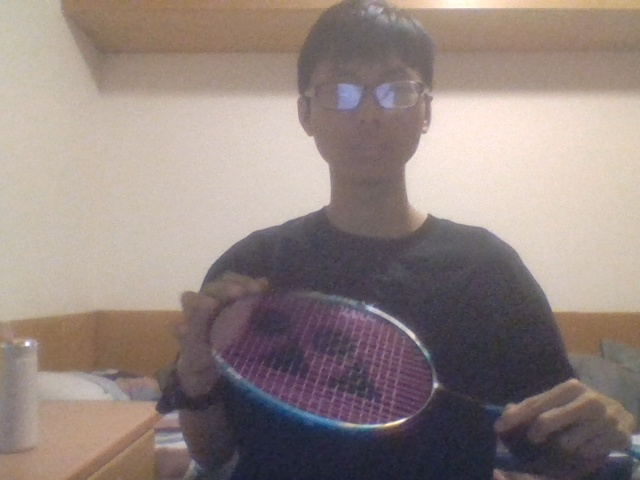human: (155, 1, 640, 480)
racket: (206, 287, 636, 477)
